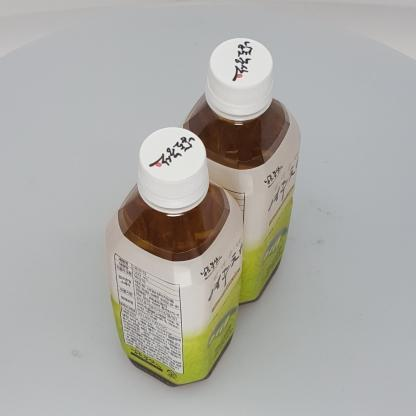-----------500ML: (105, 127, 244, 387), (180, 37, 301, 306)
